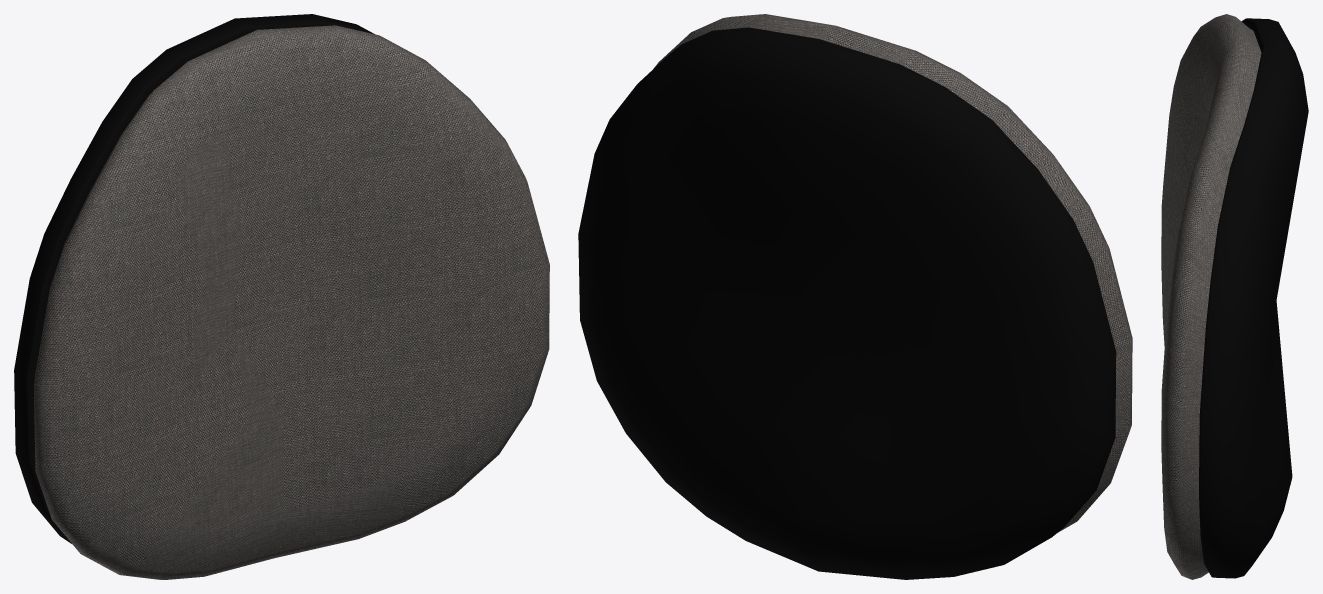
3 views of the same model, side by side, from view 1: azimuth 30°, elevation 25°; view 2: azimuth 150°, elevation 25°; view 3: azimuth 270°, elevation 25° (orthographic). The views are drawn at different scales.
Parts seen in each view (by area): view 1: part4:back 1; view 2: part4:back 1; view 3: part4:back 1.
Part boxes in pixels (x1=…): part4:back 1: x1=14, y1=14, x2=549, y2=579; part4:back 1: x1=578, y1=14, x2=1132, y2=579; part4:back 1: x1=1161, y1=14, x2=1308, y2=579.
Bounding box in the file's own units: 0.5064 × 0.4891 × 0.1322.
Materials: 2 (1 with a texture image).
